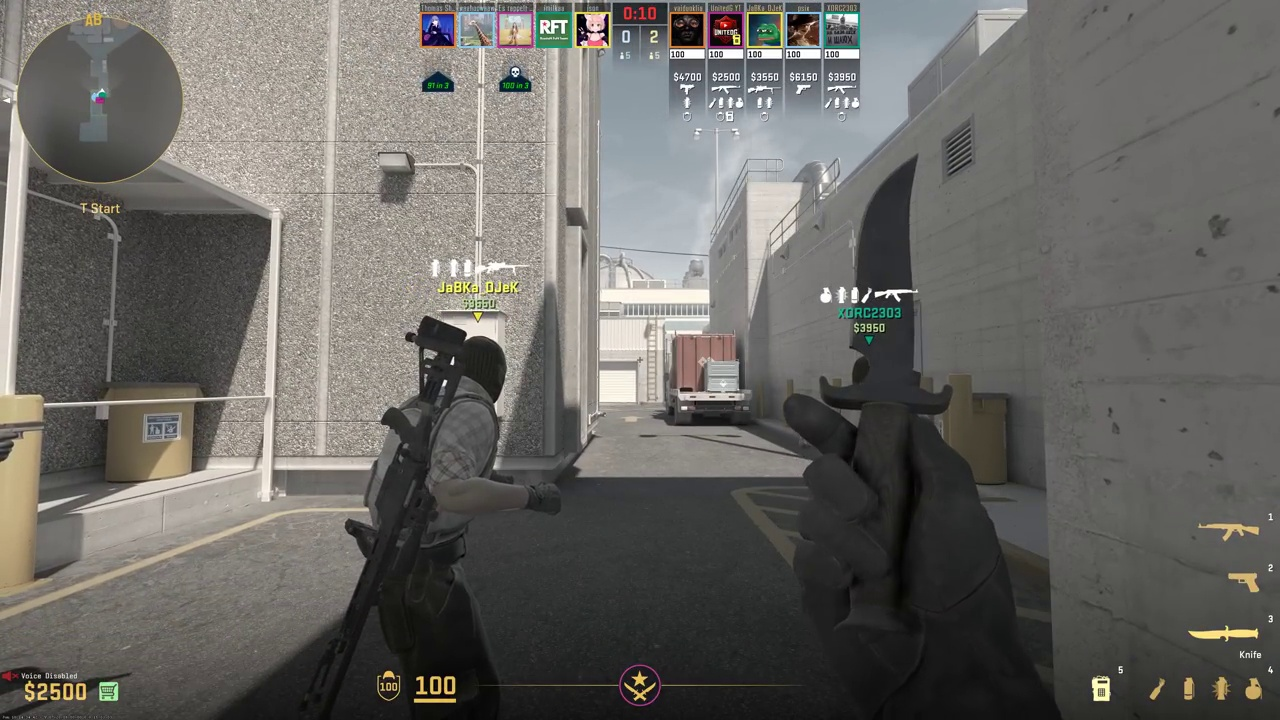Terrorist: (368, 336, 515, 720)
